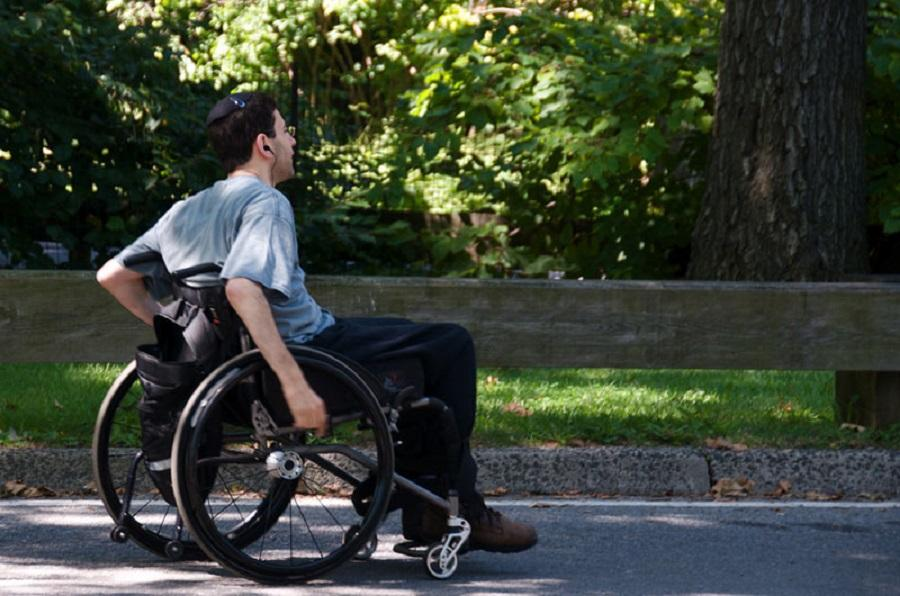wheelchair: (92, 94, 538, 586)
